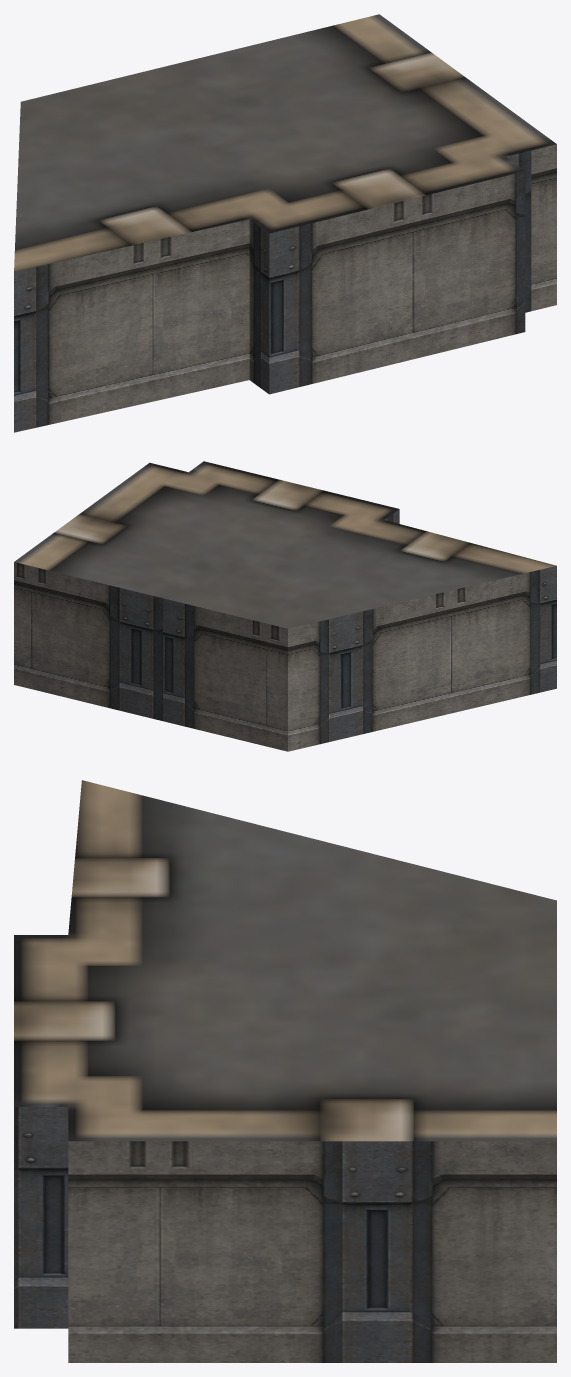
File: building_heavy_33.glb
3 views of the same model, one above another, from view 1: azimuth 30°, elevation 25°; view 2: azimuth 150°, elevation 25°; view 3: azimuth 270°, elevation 25° (orthographic). The views are drawn at different scales.
Visible parts, largest first — view 1: buildings/saxarba/building_heavy/building_heavy_33; view 2: buildings/saxarba/building_heavy/building_heavy_33; view 3: buildings/saxarba/building_heavy/building_heavy_33.
Part boxes in pixels (<box>): buildings/saxarba/building_heavy/building_heavy_33: <box>14,14,556,432</box>; buildings/saxarba/building_heavy/building_heavy_33: <box>14,461,556,751</box>; buildings/saxarba/building_heavy/building_heavy_33: <box>14,780,556,1362</box>.
Size of the model in its own units: 63 by 18 by 40.
